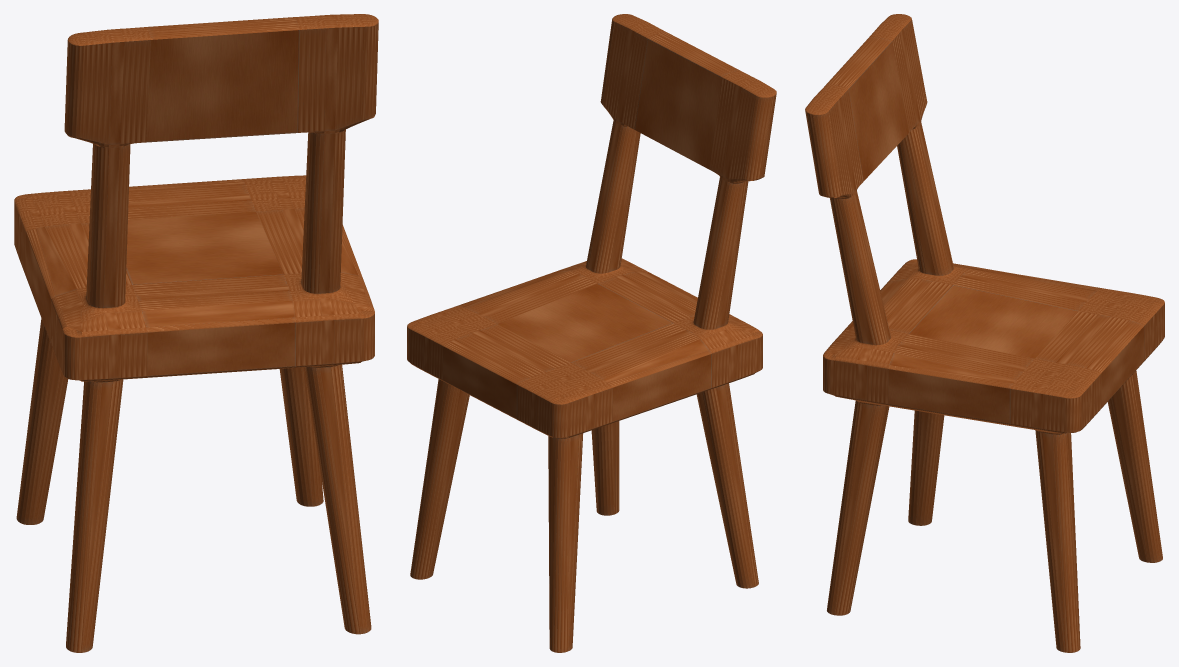
File: Stul.fbx
3 renders of one model, left to right at view 1: azimuth 30°, elevation 25°; view 2: azimuth 150°, elevation 25°; view 3: azimuth 270°, elevation 25°, orthographic. The views are drawn at different scales.
Parts seen in each view (by area): view 1: Stul; view 2: Stul; view 3: Stul.
Part boxes in pixels (x1=…): Stul: x1=14, y1=14, x2=378, y2=652; Stul: x1=407, y1=14, x2=776, y2=652; Stul: x1=805, y1=14, x2=1164, y2=652.
Size of the model in its own units: 113 by 188 by 122.
